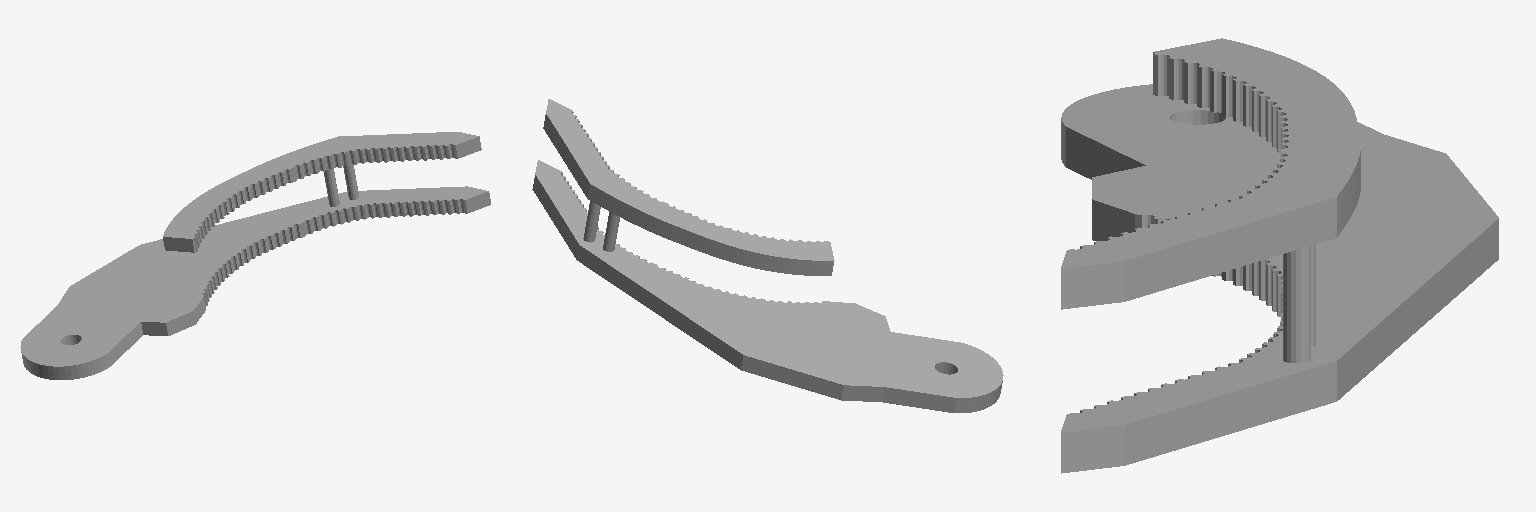
robot.urdf — angle_excurate_arm_ver2:
<?xml version="1.0" ?>
<!-- =================================================================================== -->
<!-- |    This document was autogenerated by xacro from urdf/angle_excurate_arm_ver2.xacro | -->
<!-- |    EDITING THIS FILE BY HAND IS NOT RECOMMENDED                                 | -->
<!-- =================================================================================== -->
<robot xmlns:xacro="http://www.ros.org/wiki/xacro" name="angle_excurate_arm_ver2">
  
  <material name="silver">
    <color rgba="0.700 0.700 0.700 1.000"/>
  </material>
  <transmission name="Revolute 1_tran">
    <type>transmission_interface/SimpleTransmission</type>
    <joint name="Revolute 1">
      <hardwareInterface>hardware_interface/EffortJointInterface</hardwareInterface>
    </joint>
    <actuator name="Revolute 1_actr">
      <hardwareInterface>hardware_interface/EffortJointInterface</hardwareInterface>
      <mechanicalReduction>1</mechanicalReduction>
    </actuator>
  </transmission>
  <transmission name="Revolute 2_tran">
    <type>transmission_interface/SimpleTransmission</type>
    <joint name="Revolute 2">
      <hardwareInterface>hardware_interface/EffortJointInterface</hardwareInterface>
    </joint>
    <actuator name="Revolute 2_actr">
      <hardwareInterface>hardware_interface/EffortJointInterface</hardwareInterface>
      <mechanicalReduction>1</mechanicalReduction>
    </actuator>
  </transmission>
  <transmission name="Revolute 3_tran">
    <type>transmission_interface/SimpleTransmission</type>
    <joint name="Revolute 3">
      <hardwareInterface>hardware_interface/EffortJointInterface</hardwareInterface>
    </joint>
    <actuator name="Revolute 3_actr">
      <hardwareInterface>hardware_interface/EffortJointInterface</hardwareInterface>
      <mechanicalReduction>1</mechanicalReduction>
    </actuator>
  </transmission>
  <transmission name="Revolute 4_tran">
    <type>transmission_interface/SimpleTransmission</type>
    <joint name="Revolute 4">
      <hardwareInterface>hardware_interface/EffortJointInterface</hardwareInterface>
    </joint>
    <actuator name="Revolute 4_actr">
      <hardwareInterface>hardware_interface/EffortJointInterface</hardwareInterface>
      <mechanicalReduction>1</mechanicalReduction>
    </actuator>
  </transmission>
  <transmission name="Revolute 5_tran">
    <type>transmission_interface/SimpleTransmission</type>
    <joint name="Revolute 5">
      <hardwareInterface>hardware_interface/EffortJointInterface</hardwareInterface>
    </joint>
    <actuator name="Revolute 5_actr">
      <hardwareInterface>hardware_interface/EffortJointInterface</hardwareInterface>
      <mechanicalReduction>1</mechanicalReduction>
    </actuator>
  </transmission>
  <transmission name="Revolute 6_tran">
    <type>transmission_interface/SimpleTransmission</type>
    <joint name="Revolute 6">
      <hardwareInterface>hardware_interface/EffortJointInterface</hardwareInterface>
    </joint>
    <actuator name="Revolute 6_actr">
      <hardwareInterface>hardware_interface/EffortJointInterface</hardwareInterface>
      <mechanicalReduction>1</mechanicalReduction>
    </actuator>
  </transmission>
  <gazebo>
    <plugin name="control" filename="libgazebo_ros_control.so"/>
  </gazebo>
  <gazebo reference="base_link">
    <material>Gazebo/Silver</material>
    <mu1>0.2</mu1>
    <mu2>0.2</mu2>
    <selfCollide>true</selfCollide>
    <gravity>true</gravity>
  </gazebo>
  <gazebo reference="base_link2_v2_1">
    <material>Gazebo/Silver</material>
    <mu1>0.2</mu1>
    <mu2>0.2</mu2>
    <selfCollide>true</selfCollide>
  </gazebo>
  <gazebo reference="link3_v1_1">
    <material>Gazebo/Silver</material>
    <mu1>0.2</mu1>
    <mu2>0.2</mu2>
    <selfCollide>true</selfCollide>
  </gazebo>
  <gazebo reference="link4_v1_1">
    <material>Gazebo/Silver</material>
    <mu1>0.2</mu1>
    <mu2>0.2</mu2>
    <selfCollide>true</selfCollide>
  </gazebo>
  <gazebo reference="robot_ver7_link_4_v1_1">
    <material>Gazebo/Silver</material>
    <mu1>0.2</mu1>
    <mu2>0.2</mu2>
    <selfCollide>true</selfCollide>
  </gazebo>
  <gazebo reference="robot_ver7_grap2_2_v1_1">
    <material>Gazebo/Silver</material>
    <mu1>0.2</mu1>
    <mu2>0.2</mu2>
    <selfCollide>true</selfCollide>
  </gazebo>
  <gazebo reference="robot_ver7_grap1_2_v1_1">
    <material>Gazebo/Silver</material>
    <mu1>0.2</mu1>
    <mu2>0.2</mu2>
    <selfCollide>true</selfCollide>
  </gazebo>
  <link name="base_link">
    <inertial>
      <origin xyz="3.7404378527838844e-07 7.073274099766991e-08 0.04484445545928446" rpy="0 0 0"/>
      <mass value="1.6067306789990348"/>
      <inertia ixx="0.003521" iyy="0.006468" izz="0.008802" ixy="0.0" iyz="-0.0" ixz="0.0"/>
    </inertial>
    <visual>
      <origin xyz="0 0 0" rpy="0 0 0"/>
      <geometry>
        <mesh filename="package://robot_description/meshes/base_link.stl" scale="0.001 0.001 0.001"/>
      </geometry>
      <material name="silver"/>
    </visual>
    <collision>
      <origin xyz="0 0 0" rpy="0 0 0"/>
      <geometry>
        <mesh filename="package://robot_description/meshes/base_link.stl" scale="0.001 0.001 0.001"/>
      </geometry>
    </collision>
  </link>
  <link name="base_link2_v2_1">
    <inertial>
      <origin xyz="3.7404378527838844e-07 7.073274099766991e-08 0.04484445545928446" rpy="0 0 0"/>
      <mass value="0.8724221516717809"/>
      <inertia ixx="0.000636" iyy="0.000529" izz="0.000308" ixy="-0.0" iyz="0.0" ixz="-0.0"/>
    </inertial>
    <visual>
      <origin xyz="-2.989375 -1.116433 -0.075907" rpy="0 0 0"/>
      <geometry>
        <mesh filename="package://robot_description/meshes/base_link2_v2_1.stl" scale="0.001 0.001 0.001"/>
      </geometry>
      <material name="silver"/>
    </visual>
    <collision>
      <origin xyz="-2.989375 -1.116433 -0.075907" rpy="0 0 0"/>
      <geometry>
        <mesh filename="package://robot_description/meshes/base_link2_v2_1.stl" scale="0.001 0.001 0.001"/>
      </geometry>
    </collision>
  </link>
  <link name="link3_v1_1">
    <inertial>
      <origin xyz="0.08484430230025541 -1.520309589331248e-08 0.10111258233522977" rpy="0 0 0"/>
      <mass value="1.7894494256516058"/>
      <inertia ixx="0.00475" iyy="0.007559" izz="0.003484" ixy="-0.0" iyz="-0.0" ixz="-0.003589"/>
    </inertial>
    <visual>
      <origin xyz="-2.989375 -1.116433 -0.146249" rpy="0 0 0"/>
      <geometry>
        <mesh filename="package://robot_description/meshes/link3_v1_1.stl" scale="0.001 0.001 0.001"/>
      </geometry>
      <material name="silver"/>
    </visual>
    <collision>
      <origin xyz="-2.989375 -1.116433 -0.146249" rpy="0 0 0"/>
      <geometry>
        <mesh filename="package://robot_description/meshes/link3_v1_1.stl" scale="0.001 0.001 0.001"/>
      </geometry>
    </collision>
  </link>
  <link name="link4_v1_1">
    <inertial>
      <origin xyz="0.1482264138500775 -9.6959044348921e-08 0.01783008469499825" rpy="0 0 0"/>
      <mass value="2.301167222256875"/>
      <inertia ixx="0.001028" iyy="0.010731" izz="0.010331" ixy="-0.0" iyz="0.0" ixz="-0.000548"/>
    </inertial>
    <visual>
      <origin xyz="-3.127152 -1.116433 -0.310444" rpy="0 0 0"/>
      <geometry>
        <mesh filename="package://robot_description/meshes/link4_v1_1.stl" scale="0.001 0.001 0.001"/>
      </geometry>
      <material name="silver"/>
    </visual>
    <collision>
      <origin xyz="-3.127152 -1.116433 -0.310444" rpy="0 0 0"/>
      <geometry>
        <mesh filename="package://robot_description/meshes/link4_v1_1.stl" scale="0.001 0.001 0.001"/>
      </geometry>
    </collision>
  </link>
  <link name="robot_ver7_link_4_v1_1">
    <inertial>
      <origin xyz="0.01789286974697868 -9.695904212847495e-08 0.0031552779596022984" rpy="0 0 0"/>
      <mass value="0.1836674229836172"/>
      <inertia ixx="9.9e-05" iyy="0.000103" izz="7.2e-05" ixy="0.0" iyz="0.0" ixz="5e-06"/>
    </inertial>
    <visual>
      <origin xyz="-3.357435 -1.116433 -0.35257" rpy="0 0 0"/>
      <geometry>
        <mesh filename="package://robot_description/meshes/robot_ver7_link_4_v1_1.stl" scale="0.001 0.001 0.001"/>
      </geometry>
      <material name="silver"/>
    </visual>
    <collision>
      <origin xyz="-3.357435 -1.116433 -0.35257" rpy="0 0 0"/>
      <geometry>
        <mesh filename="package://robot_description/meshes/robot_ver7_link_4_v1_1.stl" scale="0.001 0.001 0.001"/>
      </geometry>
    </collision>
  </link>
  <link name="robot_ver7_grap2_2_v1_1">
    <inertial>
      <origin xyz="0.03188502329176801 -0.005587167552119965 0.008275354159303638" rpy="0 0 0"/>
      <mass value="0.04062678364092949"/>
      <inertia ixx="4e-06" iyy="2.6e-05" izz="2.5e-05" ixy="-0.0" iyz="-0.0" ixz="-6e-06"/>
    </inertial>
    <visual>
      <origin xyz="-3.398994 -1.103933 -0.359898" rpy="0 0 0"/>
      <geometry>
        <mesh filename="package://robot_description/meshes/robot_ver7_grap2_2_v1_1.stl" scale="0.001 0.001 0.001"/>
      </geometry>
      <material name="silver"/>
    </visual>
    <collision>
      <origin xyz="-3.398994 -1.103933 -0.359898" rpy="0 0 0"/>
      <geometry>
        <mesh filename="package://robot_description/meshes/robot_ver7_grap2_2_v1_1.stl" scale="0.001 0.001 0.001"/>
      </geometry>
    </collision>
  </link>
  <link name="robot_ver7_grap1_2_v1_1">
    <inertial>
      <origin xyz="0.03188502329176801 0.005586973634027714 0.008275354159306136" rpy="0 0 0"/>
      <mass value="0.040626783640931655"/>
      <inertia ixx="4e-06" iyy="2.6e-05" izz="2.5e-05" ixy="0.0" iyz="0.0" ixz="-6e-06"/>
    </inertial>
    <visual>
      <origin xyz="-3.398994 -1.128933 -0.359898" rpy="0 0 0"/>
      <geometry>
        <mesh filename="package://robot_description/meshes/robot_ver7_grap1_2_v1_1.stl" scale="0.001 0.001 0.001"/>
      </geometry>
      <material name="silver"/>
    </visual>
    <collision>
      <origin xyz="-3.398994 -1.128933 -0.359898" rpy="0 0 0"/>
      <geometry>
        <mesh filename="package://robot_description/meshes/robot_ver7_grap1_2_v1_1.stl" scale="0.001 0.001 0.001"/>
      </geometry>
    </collision>
  </link>
  <joint name="Revolute 1" type="revolute">
    <!-- <origin xyz="2.989375 1.116433 0.075907" rpy="0 0 0"/> -->
    <origin xyz="0.0 0.0 0.075907" rpy="0 0 0"/>
    <parent link="base_link"/>
    <child link="base_link2_v2_1"/>
    <axis xyz="-0.0 -0.0 1.0"/>
    <limit upper="3.141593" lower="0.0" effort="100" velocity="100"/>
  </joint>
  <joint name="Revolute 2" type="revolute">
    <origin xyz="0.0 0.0 0.070342" rpy="0 0 0"/>
    <parent link="base_link2_v2_1"/>
    <child link="link3_v1_1"/>
    <axis xyz="-0.0 -1.0 -0.0"/>
    <limit upper="2.094395" lower="0.0" effort="100" velocity="100"/>
  </joint>
  <joint name="Revolute 3" type="revolute">
    <origin xyz="0.137777 0.0 0.164195" rpy="0 0 0"/>
    <parent link="link3_v1_1"/>
    <child link="link4_v1_1"/>
    <axis xyz="-0.0 -1.0 -0.0"/>
    <limit upper="2.617994" lower="0.0" effort="100" velocity="100"/>
  </joint>
  <joint name="Revolute 4" type="revolute">
    <origin xyz="0.230283 0.0 0.042126" rpy="0 0 0"/>
    <parent link="link4_v1_1"/>
    <child link="robot_ver7_link_4_v1_1"/>
    <axis xyz="0.984808 -0.0 0.173648"/>
    <limit upper="3.141593" lower="0.0" effort="100" velocity="100"/>
  </joint>
  <joint name="Revolute 5" type="revolute">
    <origin xyz="0.041559 -0.0125 0.007328" rpy="0 0 0"/>
    <parent link="robot_ver7_link_4_v1_1"/>
    <child link="robot_ver7_grap2_2_v1_1"/>
    <axis xyz="0.173648 0.0 -0.984808"/>
    <limit upper="1.22173" lower="0.0" effort="100" velocity="100"/>
  </joint>
  <joint name="Revolute 6" type="revolute">
    <origin xyz="0.041559 0.0125 0.007328" rpy="0 0 0"/>
    <parent link="robot_ver7_link_4_v1_1"/>
    <child link="robot_ver7_grap1_2_v1_1"/>
    <axis xyz="-0.173648 -0.0 0.984808"/>
    <limit upper="1.22173" lower="0.0" effort="100" velocity="100"/>
    <mimic joint="Revolute 5" multiplier="-1.0"/>
    <!-- multiplier設定為-1.0表示反向模仿 -->
  </joint>
</robot>

--- Facts derived from the render (not from the file) ---
The picture shows the robot from 3 angles, left to right: view 1: azimuth 30°, elevation 25°; view 2: azimuth 150°, elevation 25°; view 3: azimuth 270°, elevation 25°; orthographic projection.
Model angle_excurate_arm_ver2 with 7 links and 6 joints (6 revolute), rooted at base_link, posed all joints at 0.
Visible links, largest first — view 1: robot_ver7_grap1_2_v1_1; view 2: robot_ver7_grap1_2_v1_1; view 3: robot_ver7_grap1_2_v1_1.
Boxes of the visible links, x1,y1,x2,y2 form: robot_ver7_grap1_2_v1_1: (20,132,490,379); robot_ver7_grap1_2_v1_1: (532,99,1003,412); robot_ver7_grap1_2_v1_1: (1061,38,1498,473).
Bounding box of the posed robot: 0.0949 × 0.031 × 0.0314 m (x, y, z).
Meshes: 7 distinct files referenced, 1 mesh visuals loaded (1 binary STL); not drawn: 6 (reference not matched to a file when rendering).